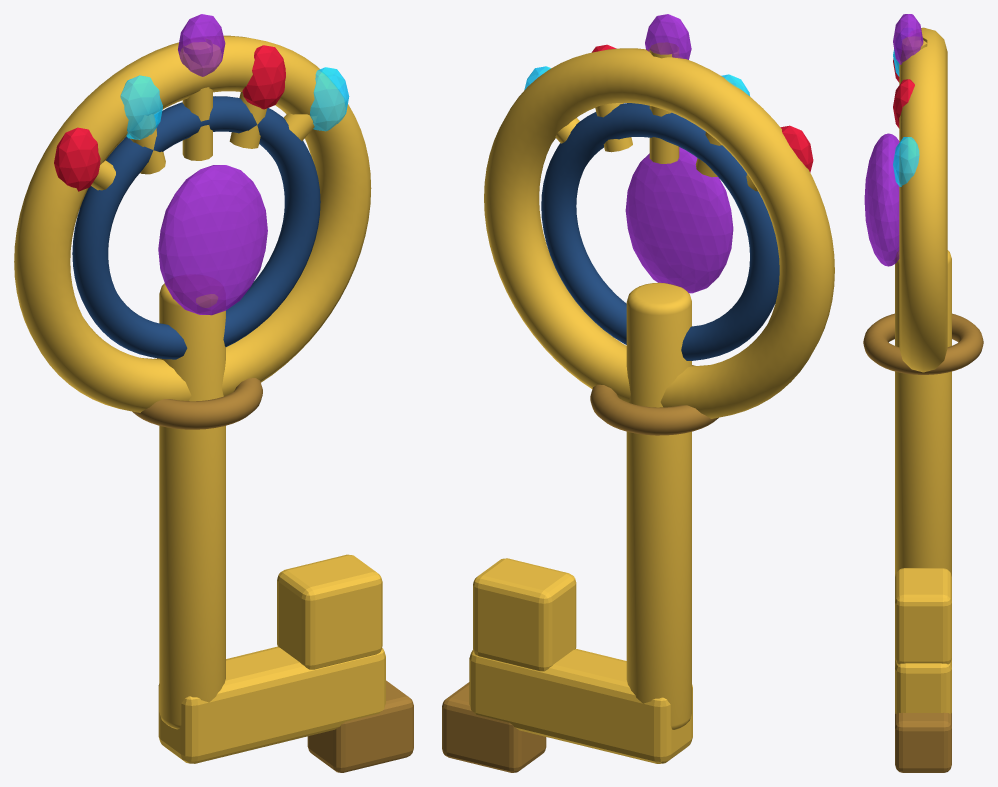
Rendered from key.glb.
The picture shows the model from 3 angles, left to right: view 1: azimuth 30°, elevation 25°; view 2: azimuth 150°, elevation 25°; view 3: azimuth 270°, elevation 25°; orthographic projection. The views are drawn at different scales.
Parts seen in each view (by area): view 1: treasure-key-crown-bow-outer-gold-ring, treasure-key-substantial-gold-shaft, treasure-key-crown-bow-lapis-inlay, treasure-key-royal-bit-main, treasure-key-heart-amethyst, treasure-key-royal-bit-upper-tooth, treasure-key-royal-bit-lower-tooth, treasure-key-shaft-chased-collar, treasure-key-crown-bow-fleur-jewel.002, treasure-key-crown-bow-fleur-jewel, treasure-key-crown-bow-fleur-jewel.001, treasure-key-crown-bow-fleur-jewel.003 (+4 smaller); view 2: treasure-key-crown-bow-outer-gold-ring, treasure-key-substantial-gold-shaft, treasure-key-crown-bow-lapis-inlay, treasure-key-royal-bit-main, treasure-key-heart-amethyst, treasure-key-royal-bit-upper-tooth, treasure-key-royal-bit-lower-tooth, treasure-key-shaft-chased-collar, treasure-key-crown-bow-fleur-jewel.002, treasure-key-crown-bow-gold-fleur.002, treasure-key-crown-bow-fleur-jewel; view 3: treasure-key-crown-bow-outer-gold-ring, treasure-key-substantial-gold-shaft, treasure-key-royal-bit-upper-tooth, treasure-key-heart-amethyst, treasure-key-royal-bit-lower-tooth, treasure-key-shaft-chased-collar, treasure-key-royal-bit-main, treasure-key-crown-bow-fleur-jewel.002, treasure-key-crown-bow-fleur-jewel.004, treasure-key-crown-bow-fleur-jewel.003, treasure-key-crown-bow-gold-fleur.002.
Boxes of the visible parts, x1=… form: treasure-key-crown-bow-outer-gold-ring: x1=14, y1=35, x2=371, y2=412; treasure-key-substantial-gold-shaft: x1=159, y1=283, x2=225, y2=729; treasure-key-crown-bow-lapis-inlay: x1=72, y1=96, x2=320, y2=359; treasure-key-royal-bit-main: x1=158, y1=646, x2=385, y2=763; treasure-key-heart-amethyst: x1=158, y1=165, x2=267, y2=315; treasure-key-royal-bit-upper-tooth: x1=277, y1=554, x2=382, y2=669; treasure-key-royal-bit-lower-tooth: x1=307, y1=680, x2=413, y2=772; treasure-key-shaft-chased-collar: x1=132, y1=358, x2=262, y2=429; treasure-key-crown-bow-fleur-jewel.002: x1=178, y1=14, x2=225, y2=76; treasure-key-crown-bow-fleur-jewel: x1=54, y1=127, x2=100, y2=191; treasure-key-crown-bow-fleur-jewel.001: x1=120, y1=75, x2=162, y2=139; treasure-key-crown-bow-fleur-jewel.003: x1=242, y1=45, x2=285, y2=109; treasure-key-crown-bow-outer-gold-ring: x1=484, y1=48, x2=834, y2=418; treasure-key-substantial-gold-shaft: x1=626, y1=282, x2=691, y2=729; treasure-key-crown-bow-lapis-inlay: x1=541, y1=103, x2=779, y2=360; treasure-key-royal-bit-main: x1=469, y1=648, x2=692, y2=763; treasure-key-heart-amethyst: x1=625, y1=147, x2=733, y2=293; treasure-key-royal-bit-upper-tooth: x1=473, y1=558, x2=576, y2=671; treasure-key-royal-bit-lower-tooth: x1=442, y1=682, x2=546, y2=772; treasure-key-shaft-chased-collar: x1=590, y1=365, x2=718, y2=435; treasure-key-crown-bow-fleur-jewel.002: x1=645, y1=14, x2=691, y2=59; treasure-key-crown-bow-gold-fleur.002: x1=649, y1=42, x2=679, y2=163; treasure-key-crown-bow-fleur-jewel: x1=780, y1=125, x2=813, y2=172; treasure-key-crown-bow-outer-gold-ring: x1=899, y1=27, x2=947, y2=372; treasure-key-substantial-gold-shaft: x1=895, y1=250, x2=951, y2=576; treasure-key-royal-bit-upper-tooth: x1=895, y1=568, x2=951, y2=664; treasure-key-heart-amethyst: x1=864, y1=133, x2=899, y2=266; treasure-key-royal-bit-lower-tooth: x1=895, y1=712, x2=951, y2=772; treasure-key-shaft-chased-collar: x1=863, y1=313, x2=983, y2=374; treasure-key-royal-bit-main: x1=895, y1=658, x2=951, y2=713; treasure-key-crown-bow-fleur-jewel.002: x1=893, y1=14, x2=923, y2=64; treasure-key-crown-bow-fleur-jewel.004: x1=893, y1=137, x2=919, y2=186; treasure-key-crown-bow-fleur-jewel.003: x1=893, y1=79, x2=914, y2=128; treasure-key-crown-bow-gold-fleur.002: x1=902, y1=36, x2=927, y2=55.
Size of the model in its own units: 0.865 by 1.71 by 0.276.
